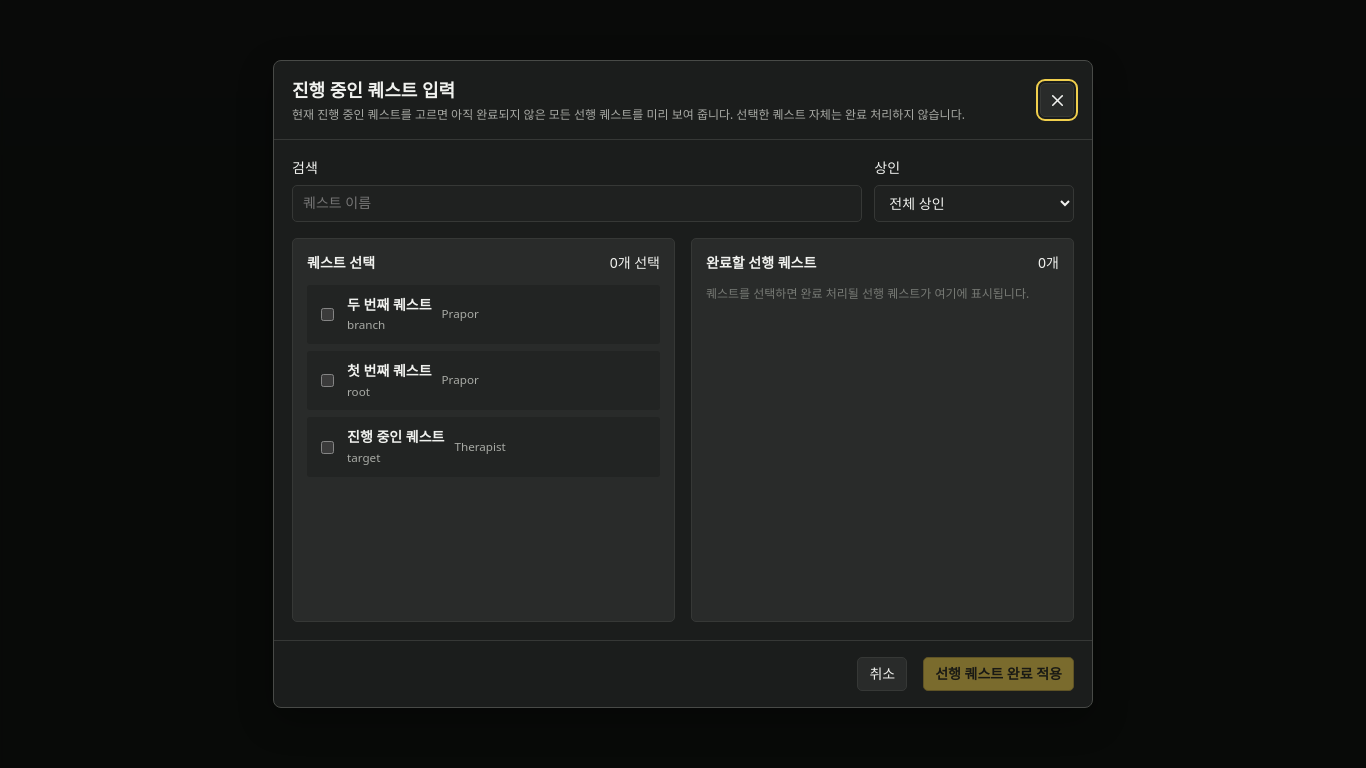
Test: InProgressQuestDialog › filters selectable quests by search and trader
The image size is (1366, 768).
Step 1. Select "Therapist" in the dropdown named "상인 필터" → (974, 203), box [874, 185, 1074, 222]
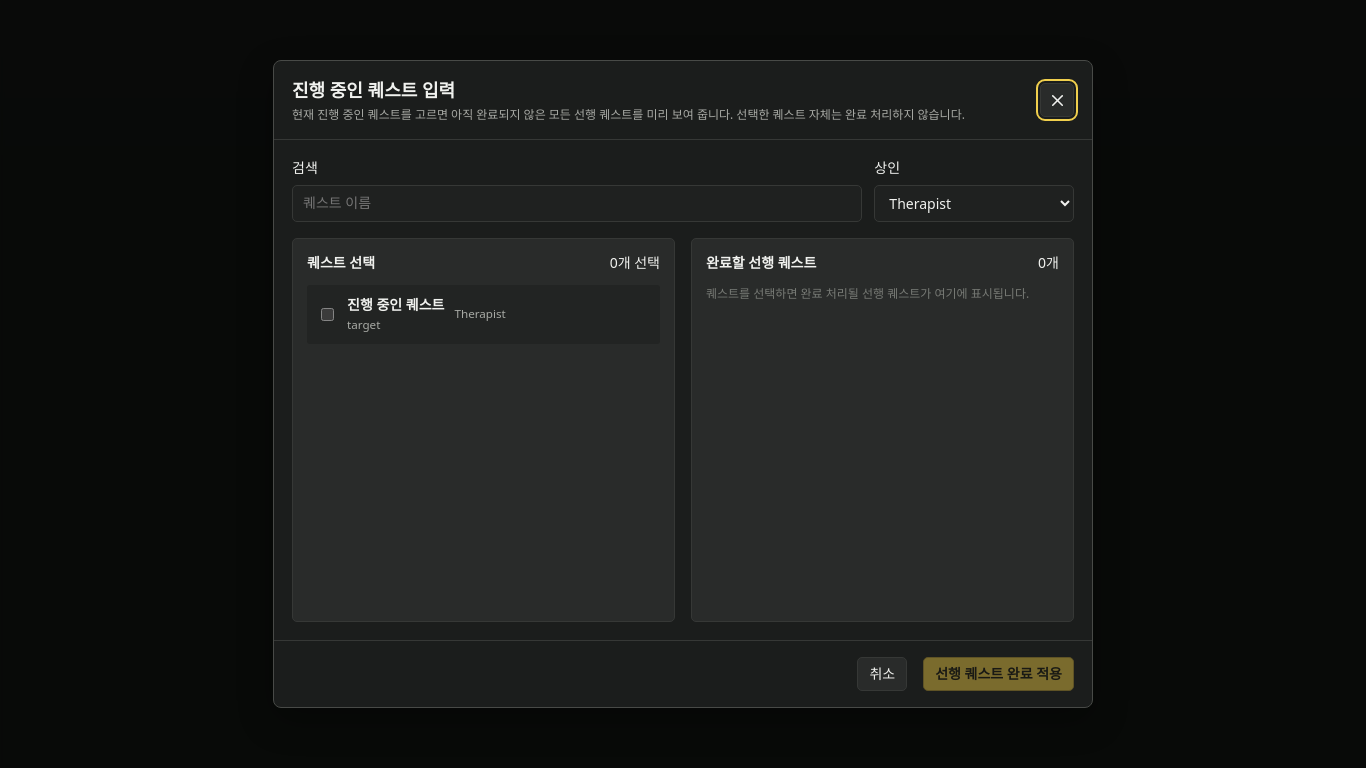
expect the checkbox labelled "진행 중인 퀘스트 target Therapist" is shown: met, box [321, 308, 334, 321]
expect the text "첫 번째 퀘스트" is gone: met
Step 2. Type "없는 이름" into the search field named "퀘스트 검색" → (577, 203), box [292, 185, 862, 222]
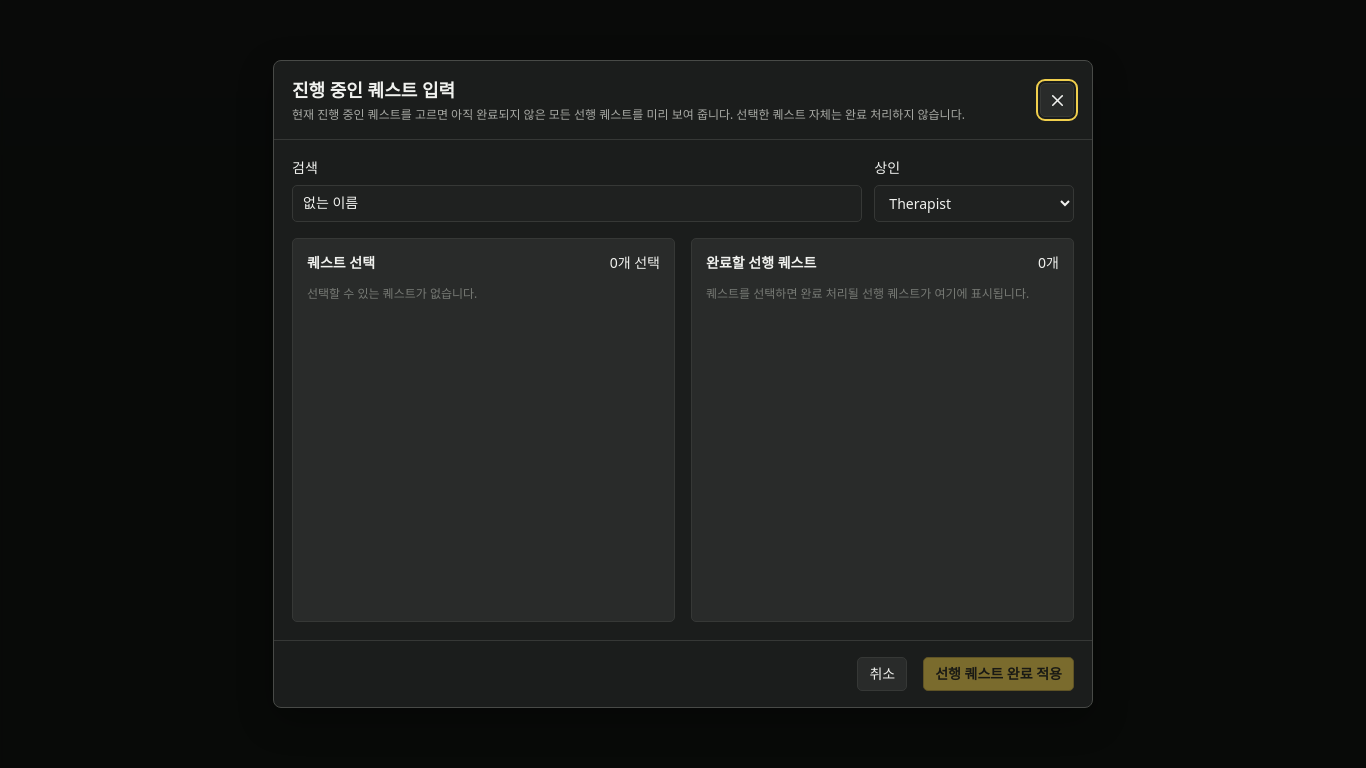
expect the text "선택할 수 있는 퀘스트가 없습니다." is shown: met, box [307, 285, 477, 302]
